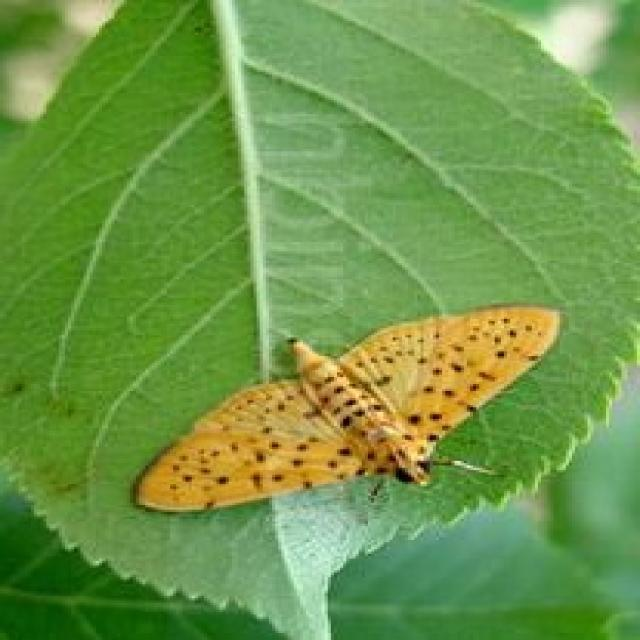peach borer: (131, 301, 564, 520)
